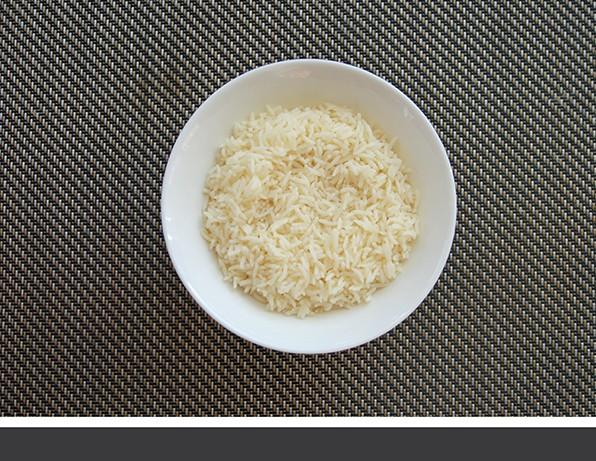WhiteRice: (199, 102, 421, 318)
